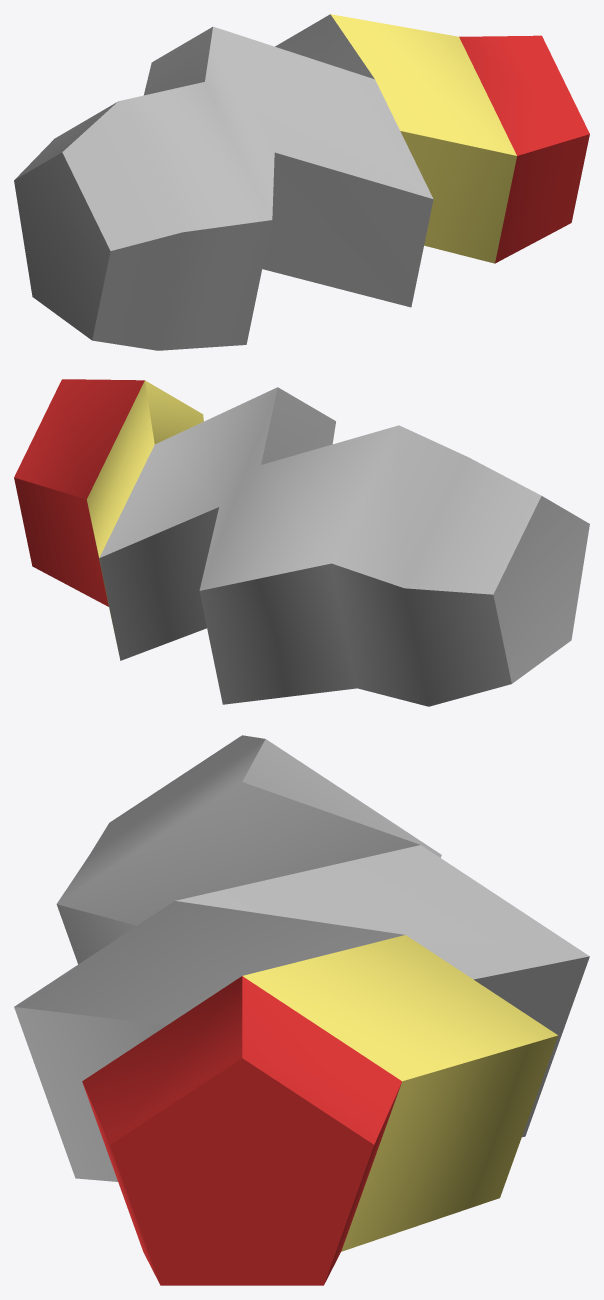
File: Shrimpled_cigarette.fbx
3 views of the same model, one above another, from view 1: azimuth 30°, elevation 25°; view 2: azimuth 150°, elevation 25°; view 3: azimuth 270°, elevation 25° (orthographic). The views are drawn at different scales.
Visible parts, largest first — view 1: Shrimpled_ass_cigarette; view 2: Shrimpled_ass_cigarette; view 3: Shrimpled_ass_cigarette.
Boxes of the visible parts, <box> form: Shrimpled_ass_cigarette: <box>14,14,589,350</box>; Shrimpled_ass_cigarette: <box>14,379,589,706</box>; Shrimpled_ass_cigarette: <box>14,735,589,1285</box>.
Bounding box in the file's own units: 0.273 × 0.1265 × 0.2064.
